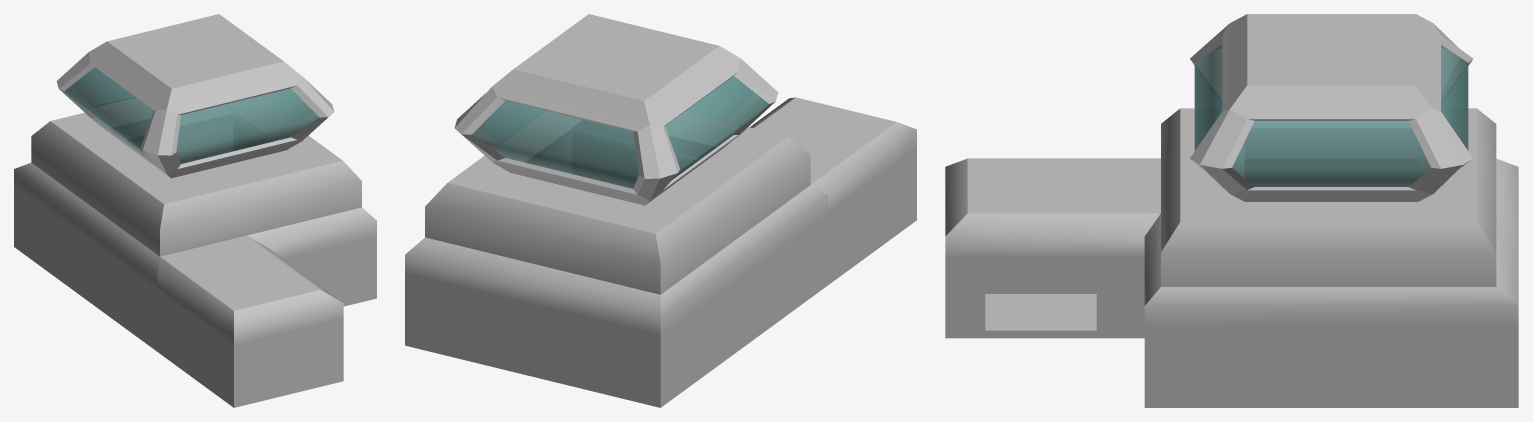
File: HeadQuarters.fbx
3 renders of one model, left to right at view 1: azimuth 30°, elevation 25°; view 2: azimuth 150°, elevation 25°; view 3: azimuth 270°, elevation 25°, orthographic. The views are drawn at different scales.
Visible parts, largest first — view 1: pCube26; view 2: pCube26; view 3: pCube26.
Part boxes in pixels (x1,y1,x2,y2): pCube26: (14,14,376,407); pCube26: (405,14,916,407); pCube26: (945,14,1518,407).
Bounding box in the file's own units: 16.8 × 16.21 × 29.18.
